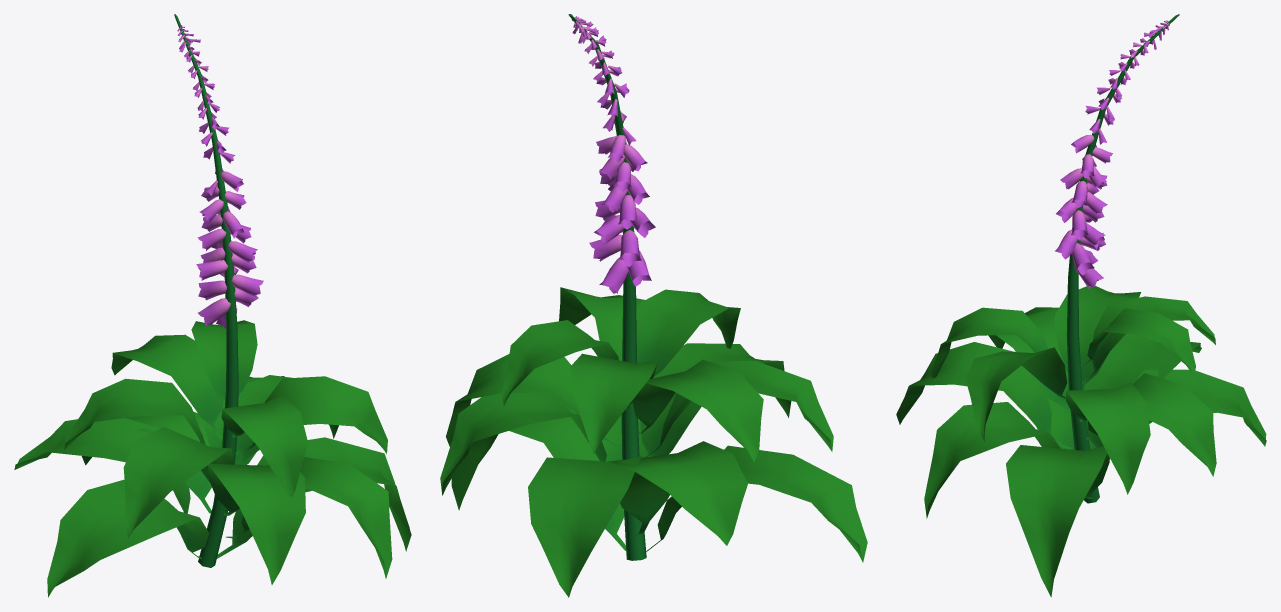
Rendered from Plant1.fbx.
The picture shows the model from 3 angles, left to right: view 1: azimuth 30°, elevation 25°; view 2: azimuth 150°, elevation 25°; view 3: azimuth 270°, elevation 25°; orthographic projection. The views are drawn at different scales.
Visible parts, largest first — view 1: Leaves.014, Flowers_1, Stem; view 2: Leaves.014, Flowers_1, Stem; view 3: Leaves.014, Flowers_1, Stem.
Part boxes in pixels (x1=…): Leaves.014: x1=14, y1=320, x2=411, y2=597; Flowers_1: x1=177, y1=25, x2=263, y2=328; Stem: x1=174, y1=14, x2=238, y2=567; Leaves.014: x1=440, y1=287, x2=867, y2=597; Flowers_1: x1=571, y1=16, x2=655, y2=293; Stem: x1=568, y1=14, x2=646, y2=560; Leaves.014: x1=896, y1=286, x2=1266, y2=597; Flowers_1: x1=1055, y1=20, x2=1169, y2=289; Stem: x1=1066, y1=14, x2=1179, y2=503.
Bounding box in the file's own units: 1.27 × 1.76 × 1.17.
